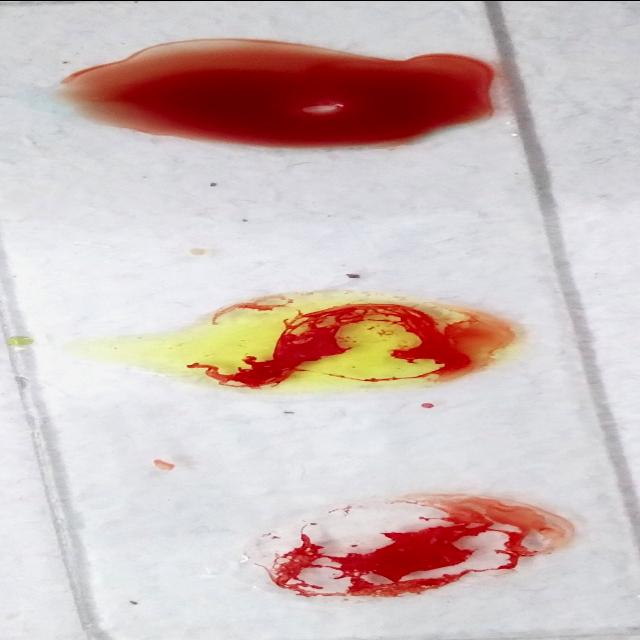B: (132, 296, 528, 388)
D: (244, 492, 580, 600)
